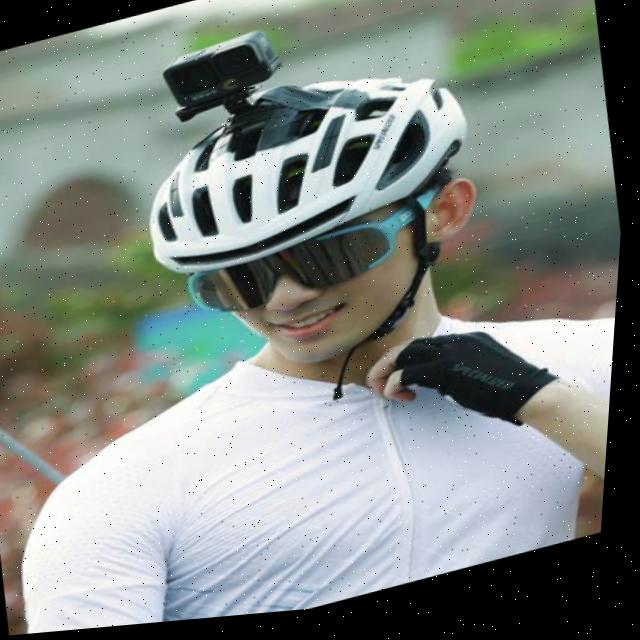illegal_helmet: (90, 0, 533, 430)
